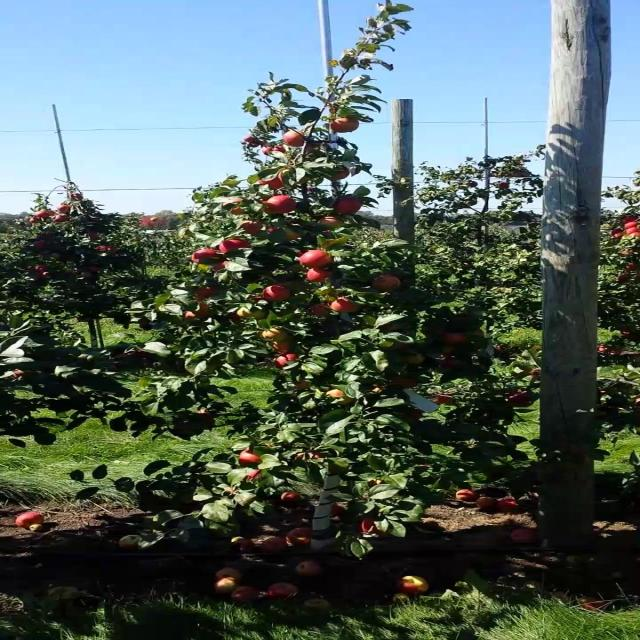apple: (269, 196, 299, 213), (362, 520, 391, 537), (333, 200, 363, 216), (305, 252, 334, 268), (305, 268, 334, 284), (220, 240, 251, 253), (333, 120, 363, 133), (326, 392, 356, 405), (262, 200, 292, 213), (376, 276, 400, 291), (390, 376, 420, 388), (284, 132, 306, 148), (191, 252, 220, 264), (241, 308, 268, 320), (227, 200, 247, 216), (333, 300, 357, 312), (241, 452, 263, 465), (269, 288, 292, 300), (276, 356, 299, 368), (319, 220, 341, 231), (227, 204, 247, 216), (262, 332, 288, 341), (511, 392, 532, 403), (312, 304, 331, 316), (241, 224, 263, 234), (269, 332, 290, 342), (184, 312, 210, 320), (404, 356, 427, 365), (198, 288, 215, 300), (333, 168, 350, 180), (262, 180, 284, 189), (212, 260, 228, 272), (447, 336, 469, 344), (433, 396, 455, 404), (248, 296, 270, 304), (198, 416, 215, 426), (198, 304, 212, 316), (276, 344, 292, 354), (284, 492, 300, 502), (625, 328, 638, 340), (440, 360, 457, 369), (298, 380, 313, 390), (440, 348, 457, 356), (333, 464, 347, 473), (248, 472, 263, 480), (184, 312, 199, 320), (13, 372, 28, 380), (369, 480, 384, 488), (397, 344, 412, 351), (412, 412, 425, 420), (305, 144, 318, 152), (262, 148, 272, 155), (291, 232, 299, 240), (269, 228, 277, 232), (497, 348, 505, 352)
